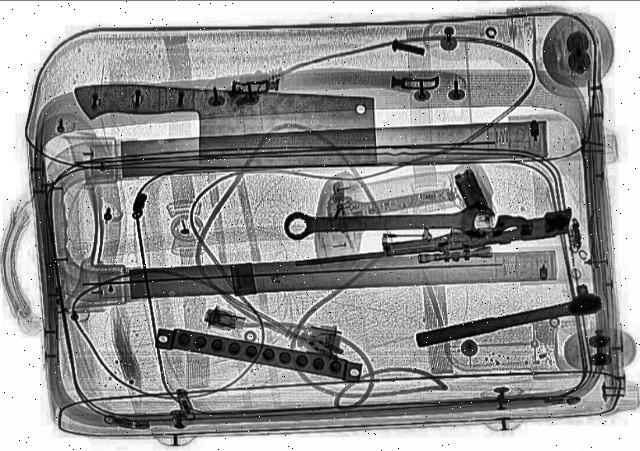Gun: (288, 205, 578, 277)
Knife: (71, 83, 382, 167)
Wrench: (283, 202, 497, 242)
